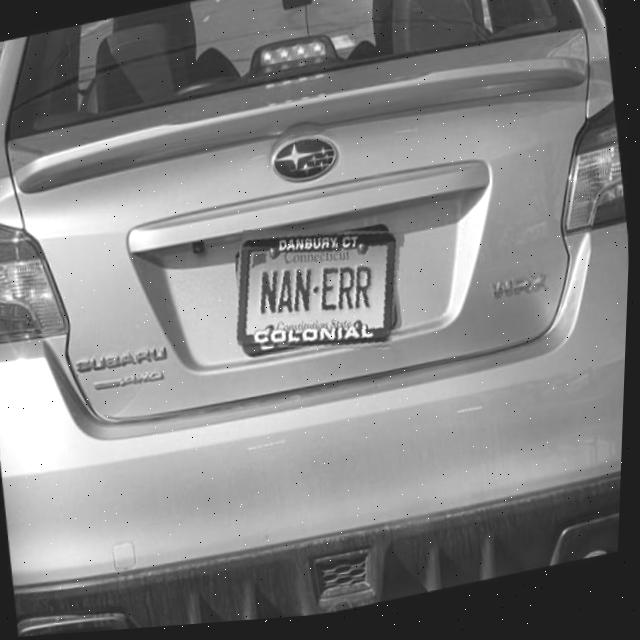LicensePlate: (240, 239, 400, 351)
